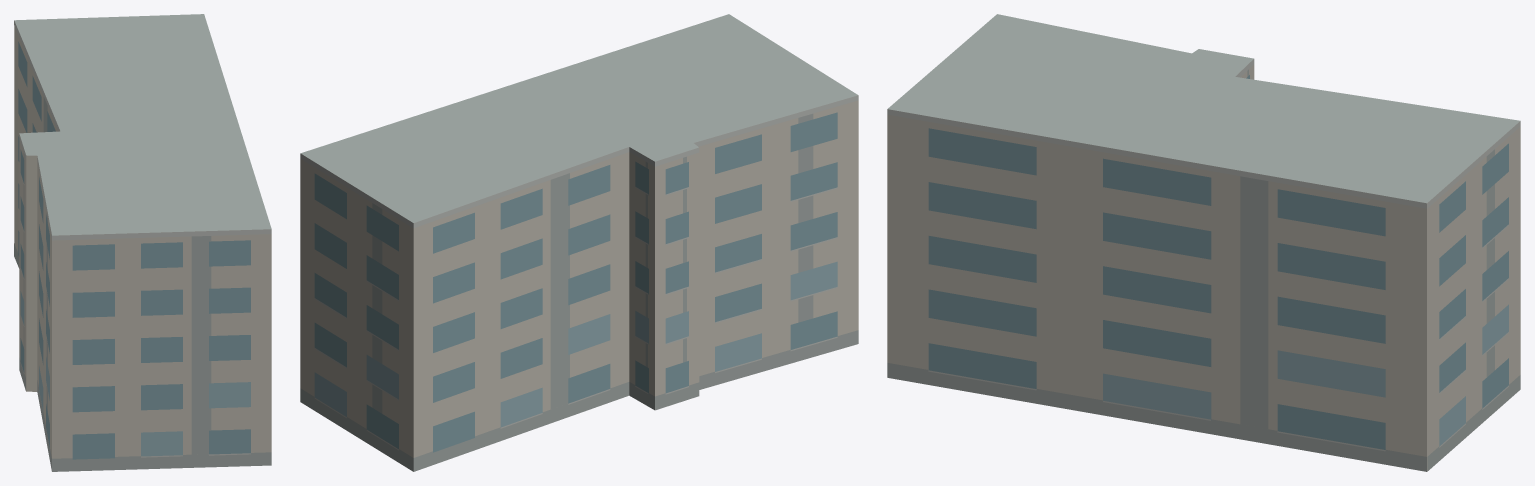
The model's file is survey-upis-32564508.glb.
3 renders of one model, left to right at view 1: azimuth 30°, elevation 25°; view 2: azimuth 150°, elevation 25°; view 3: azimuth 270°, elevation 25°, orthographic. The views are drawn at different scales.
Parts seen in each view (by area): view 1: survey-upis-32564508.tmp; view 2: survey-upis-32564508.tmp; view 3: survey-upis-32564508.tmp.
Boxes of the visible parts, <box> form: survey-upis-32564508.tmp: <box>14,14,271,471</box>; survey-upis-32564508.tmp: <box>300,14,858,471</box>; survey-upis-32564508.tmp: <box>887,14,1520,471</box>.
Size of the model in its own units: 17.77 by 11.75 by 25.12.
